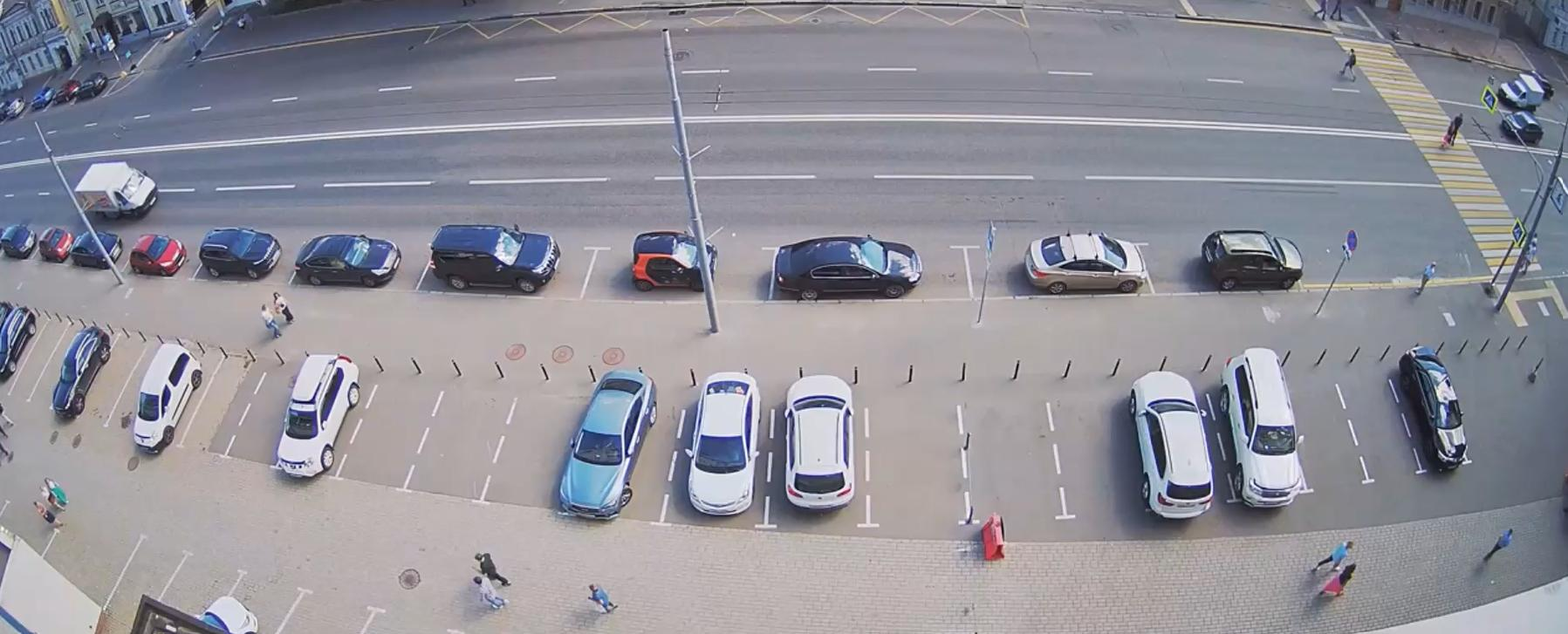car: (1498, 70, 1554, 111), (1499, 109, 1544, 146)
free: (866, 386, 961, 528), (965, 383, 1059, 516), (441, 381, 502, 486), (1334, 380, 1399, 476), (369, 375, 415, 469), (529, 370, 561, 483), (219, 359, 246, 415)
occupied: (559, 367, 657, 516), (1218, 346, 1304, 504), (1128, 370, 1213, 517), (274, 352, 361, 478), (688, 369, 763, 512), (781, 372, 855, 512), (426, 222, 563, 294), (772, 234, 915, 301), (1395, 346, 1468, 469), (133, 342, 205, 454), (1025, 231, 1148, 295), (1201, 228, 1305, 292), (292, 233, 404, 289), (50, 325, 114, 419), (197, 227, 282, 280), (0, 300, 38, 378), (128, 233, 187, 277), (68, 229, 123, 270), (38, 226, 75, 262), (0, 223, 38, 258), (69, 72, 110, 102), (29, 84, 58, 111), (0, 96, 26, 122), (55, 79, 83, 103)
